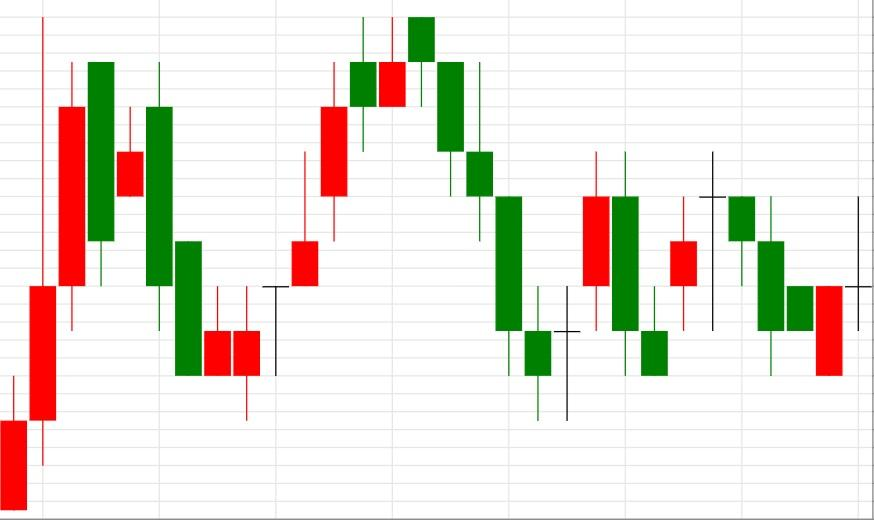bearish_engulfing_fall: (524, 151, 640, 420)
three_black_crows_fall: (232, 17, 494, 420)
